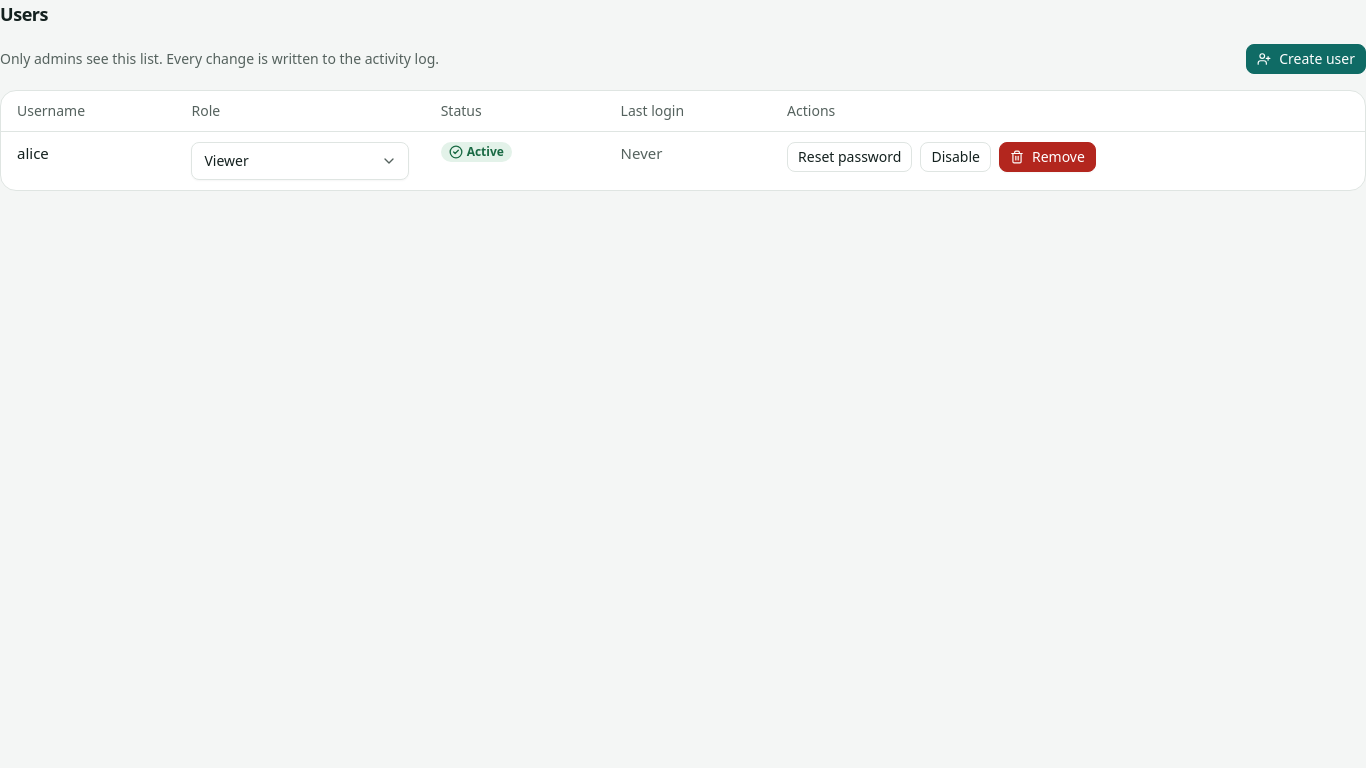
Test case: UsersAdmin actions › asks before disabling, then disables and says the sessions ended
The image size is (1366, 768).
Expected: the table named "Users" is shown, [1, 91, 1365, 190]
Click the button "Disable" at (956, 157), box [920, 142, 991, 172]
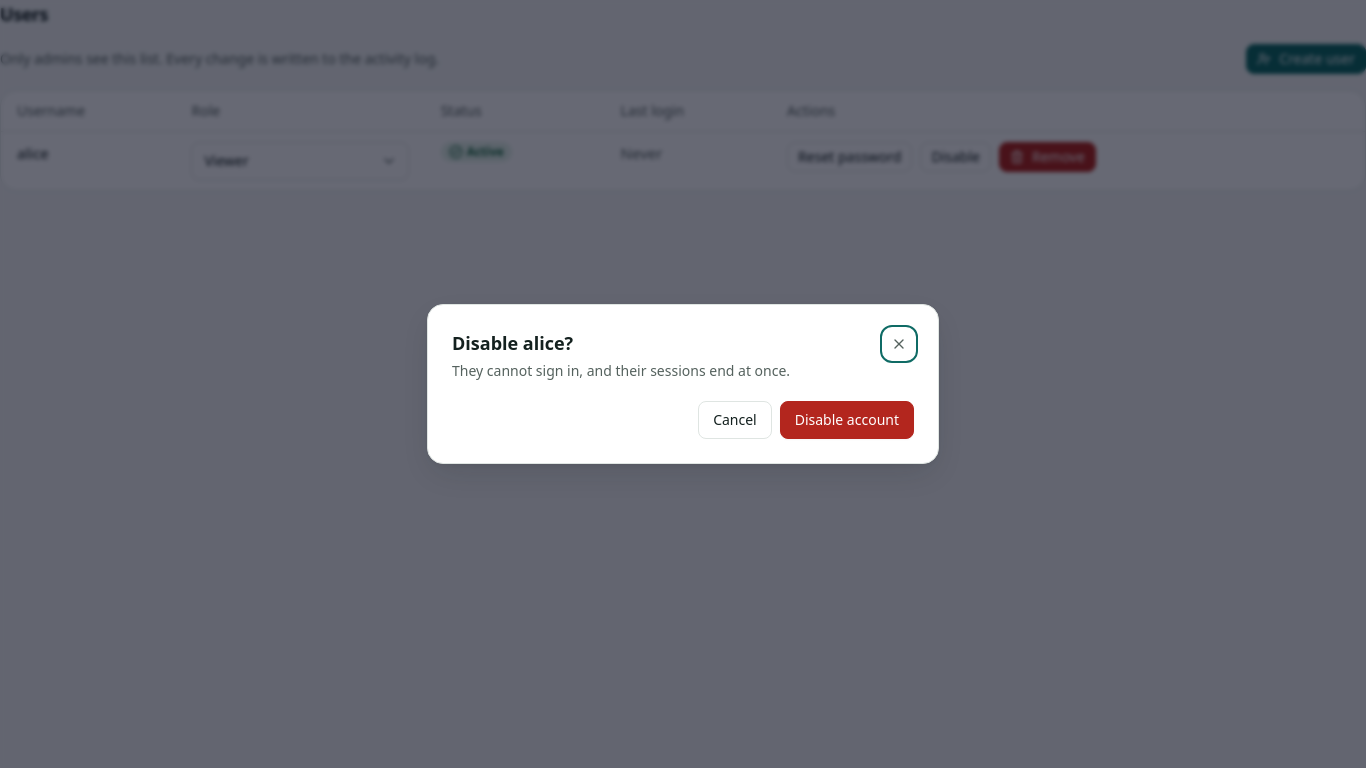
Click the button "Disable account" at (847, 420), box [780, 401, 914, 439]
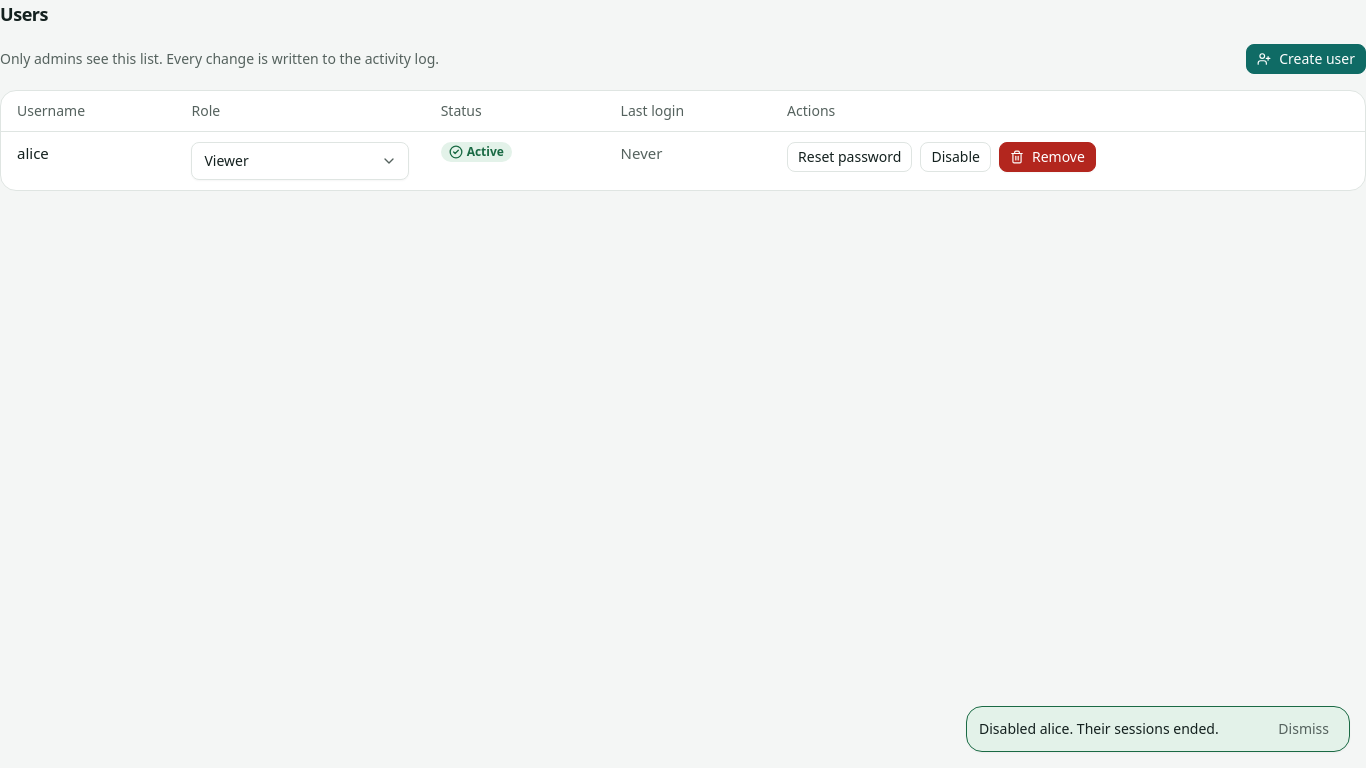
Now the text "Disabled alice. Their sessions ended." is shown, box [979, 719, 1219, 739]
